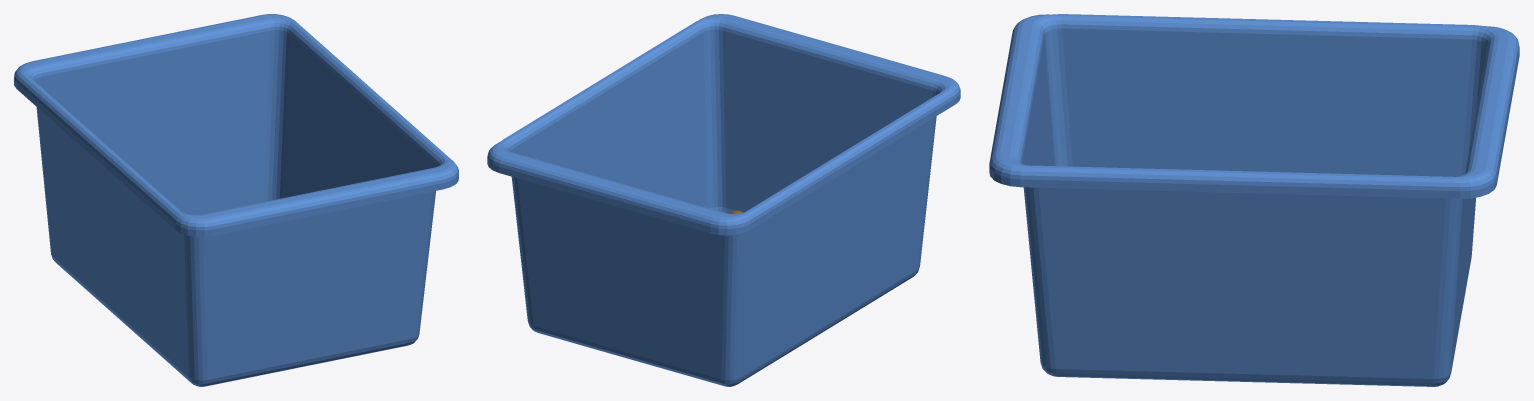
3 renders of one model, left to right at view 1: azimuth 30°, elevation 25°; view 2: azimuth 150°, elevation 25°; view 3: azimuth 270°, elevation 25°, orthographic. The views are drawn at different scales.
Parts seen in each view (by area): view 1: bin; view 2: bin; view 3: bin.
Part boxes in pixels (<box>): bin: <box>14,14,458,386</box>; bin: <box>487,14,960,386</box>; bin: <box>989,14,1519,386</box>.
Size of the model in its own units: 0.3172 by 0.1967 by 0.4131.
